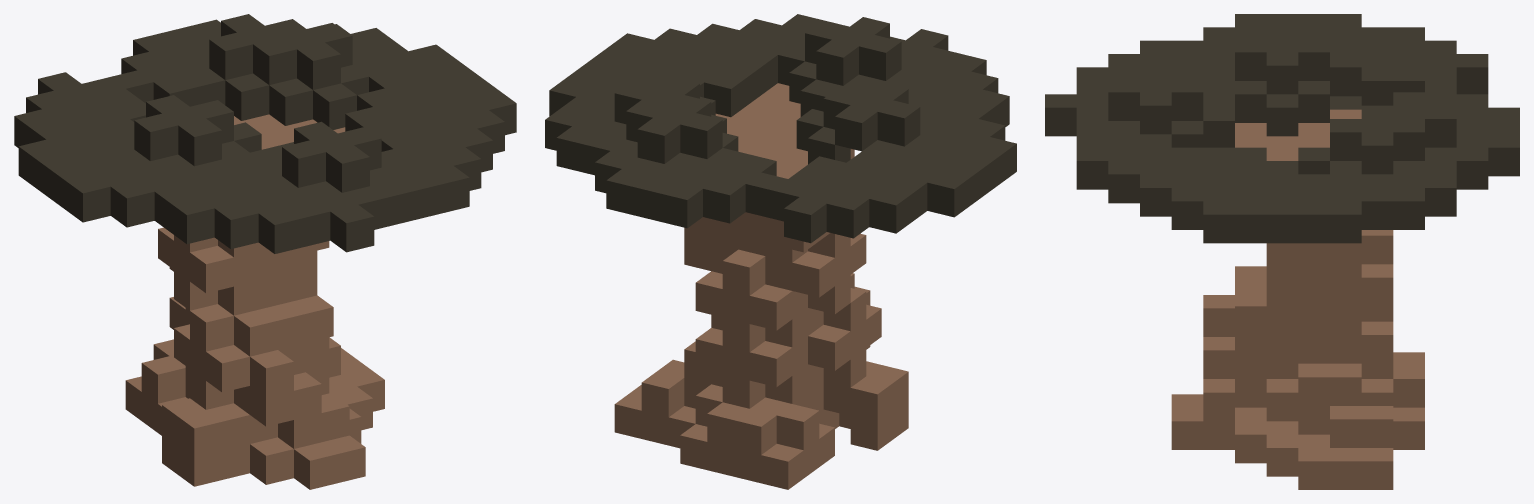
File: Medieval Assets-29-Decoration - Swamp - Mushroom - Stem.obj
3 renders of one model, left to right at view 1: azimuth 30°, elevation 25°; view 2: azimuth 150°, elevation 25°; view 3: azimuth 270°, elevation 25°, orthographic. The views are drawn at different scales.
Parts seen in each view (by area): view 1: Decoration - Swamp - Mushroom - Stem; view 2: Decoration - Swamp - Mushroom - Stem; view 3: Decoration - Swamp - Mushroom - Stem.
Boxes of the visible parts, x1,y1,x2,y2 form: Decoration - Swamp - Mushroom - Stem: [14, 14, 516, 489]; Decoration - Swamp - Mushroom - Stem: [545, 14, 1016, 489]; Decoration - Swamp - Mushroom - Stem: [1045, 14, 1519, 489].
Bounding box in the file's own units: 1.5 × 1.2 × 1.5.
Materials: 1 (1 with a texture image).
